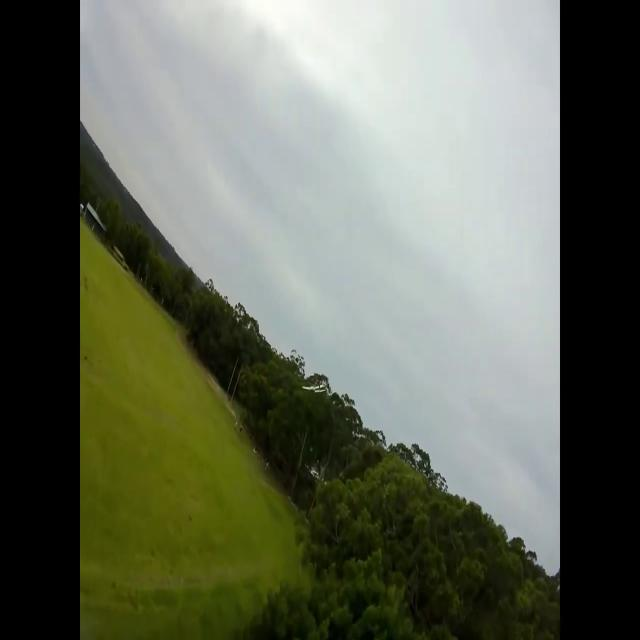iha: (303, 385, 325, 392)
